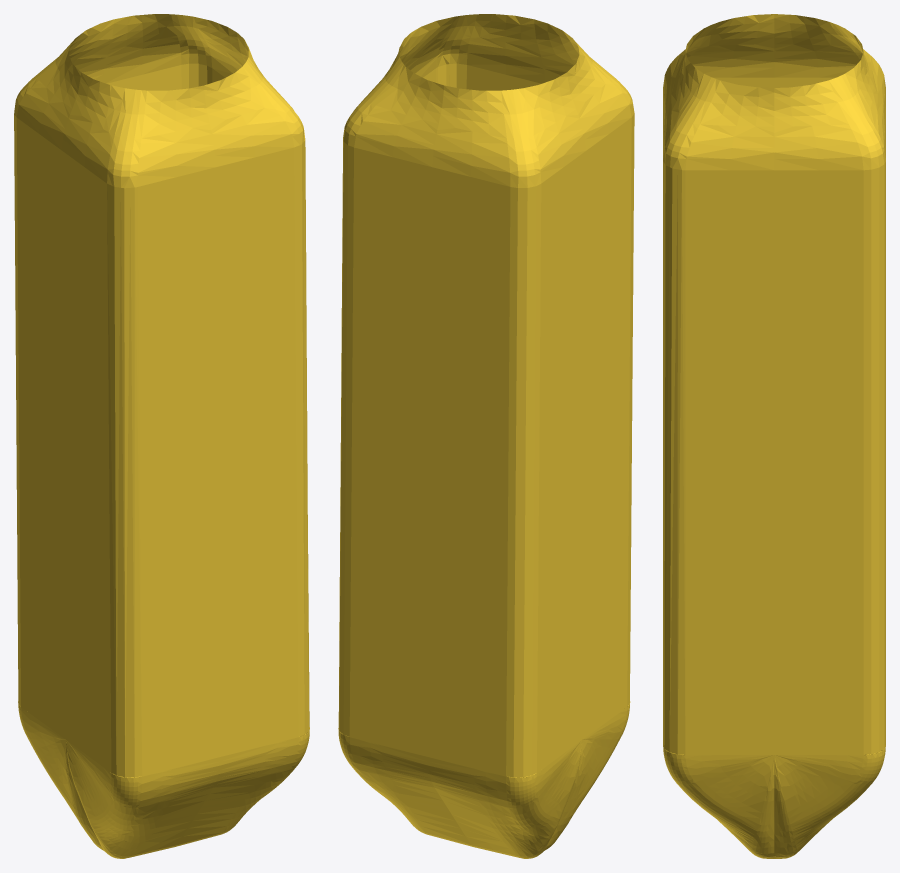
The model's file is rotor_frontal.dae.
3 views of the same model, side by side, from view 1: azimuth 30°, elevation 25°; view 2: azimuth 150°, elevation 25°; view 3: azimuth 270°, elevation 25° (orthographic).
Visible parts, largest first — view 1: rotorCm2; view 2: rotorCm2; view 3: rotorCm2.
Part boxes in pixels (x1,y1,x2,y2): rotorCm2: (14, 14, 309, 858); rotorCm2: (338, 14, 634, 858); rotorCm2: (663, 14, 885, 858).
Size of the model in its own units: 0.0511 by 0.05 by 0.1939.
